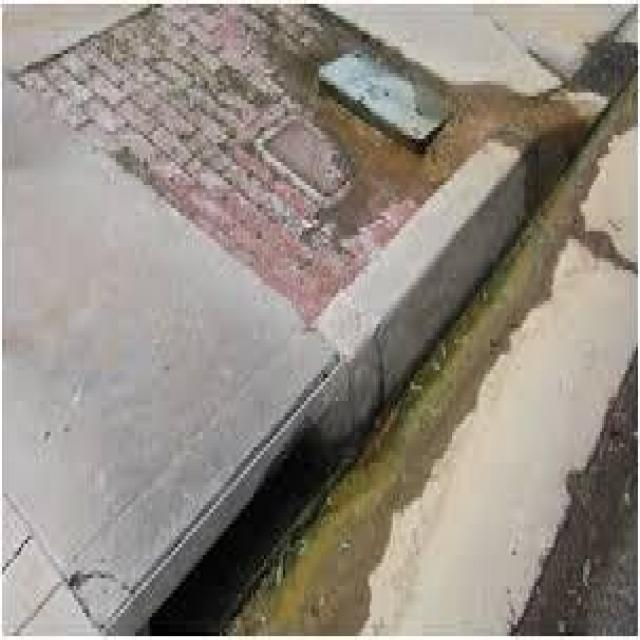curb: (296, 175, 489, 486), (73, 363, 289, 640), (461, 42, 626, 273)
